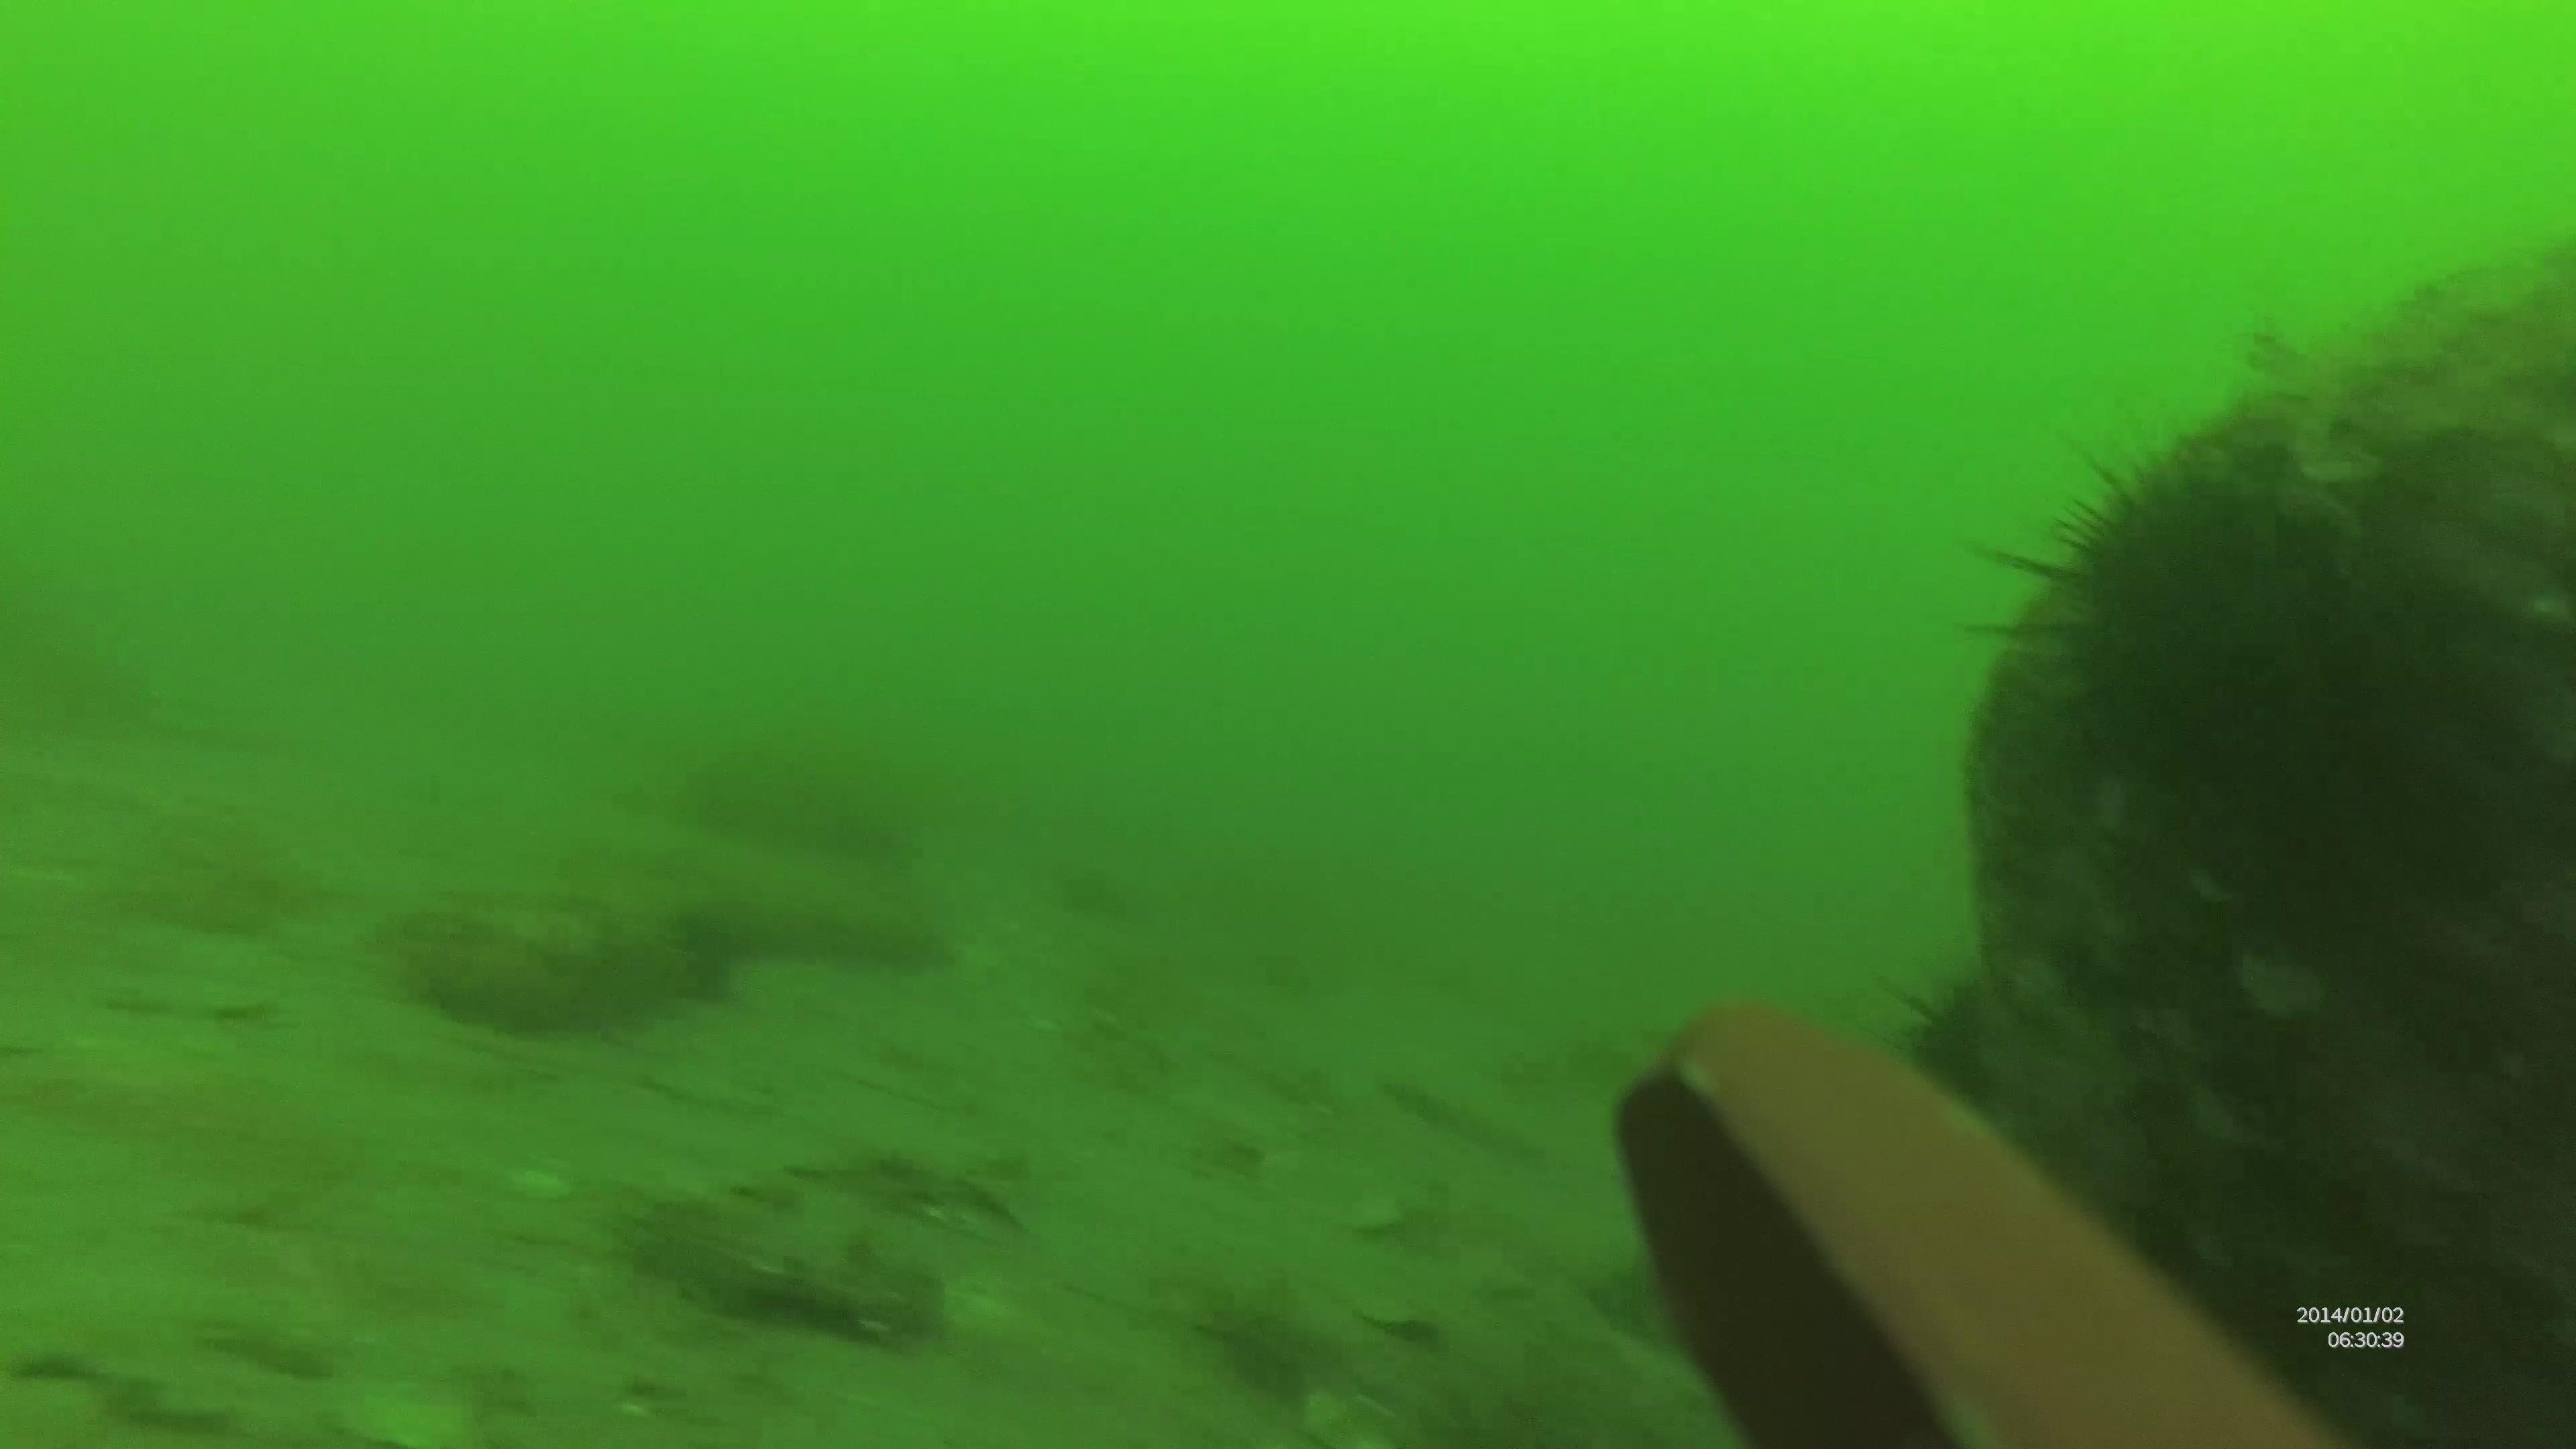echinus: (1960, 407, 2557, 964), (1879, 947, 2128, 1155)
